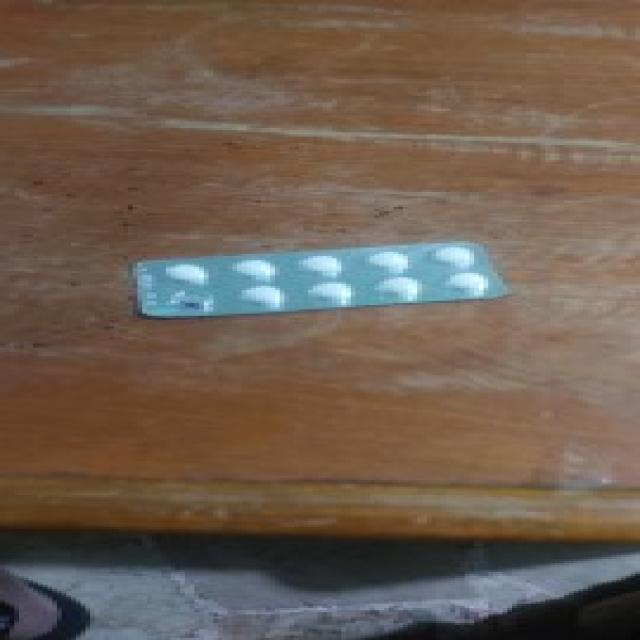Cacat: (126, 244, 507, 316)
Kemasan: (158, 291, 216, 314)
